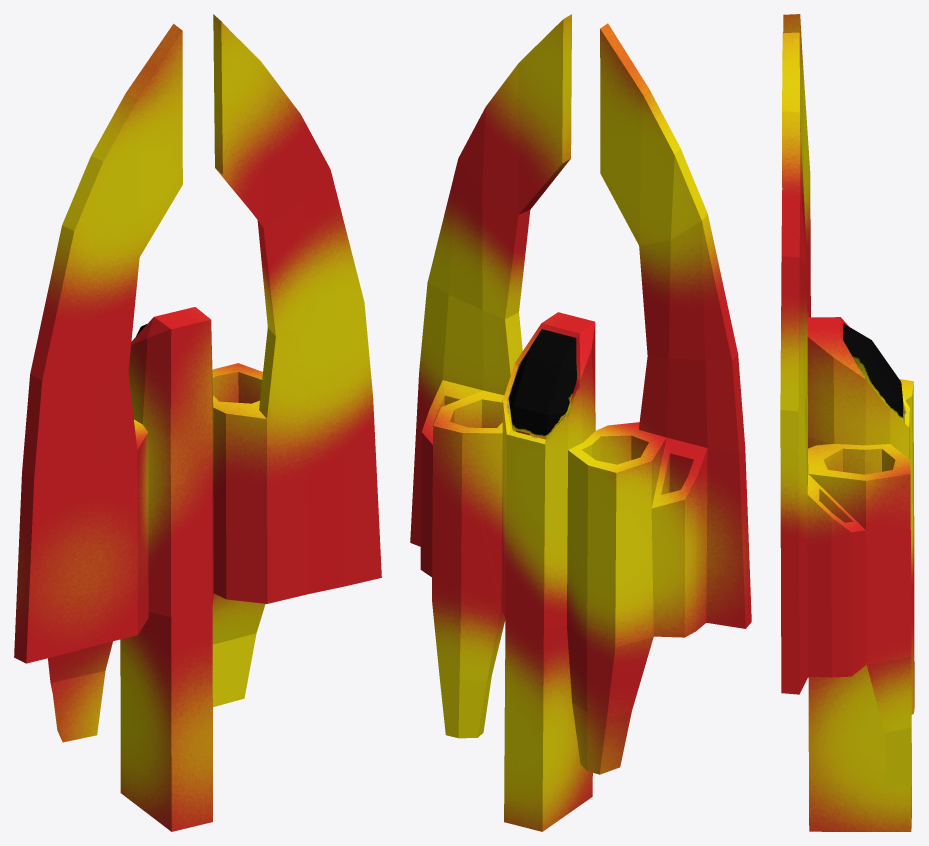
The model's file is SpaceshipSean.FBX.
The picture shows the model from 3 angles, left to right: view 1: azimuth 30°, elevation 25°; view 2: azimuth 150°, elevation 25°; view 3: azimuth 270°, elevation 25°; orthographic projection. The views are drawn at different scales.
Visible parts, largest first — view 1: node_id7; view 2: node_id7, node_id9; view 3: node_id7, node_id9.
Boxes of the visible parts, <box> form: node_id7: <box>14,14,381,831</box>; node_id7: <box>410,14,751,831</box>; node_id9: <box>508,329,576,437</box>; node_id7: <box>780,14,914,831</box>; node_id9: <box>843,324,903,421</box>.
Bounding box in the file's own units: 0.3805 × 0.8231 × 0.1256.
